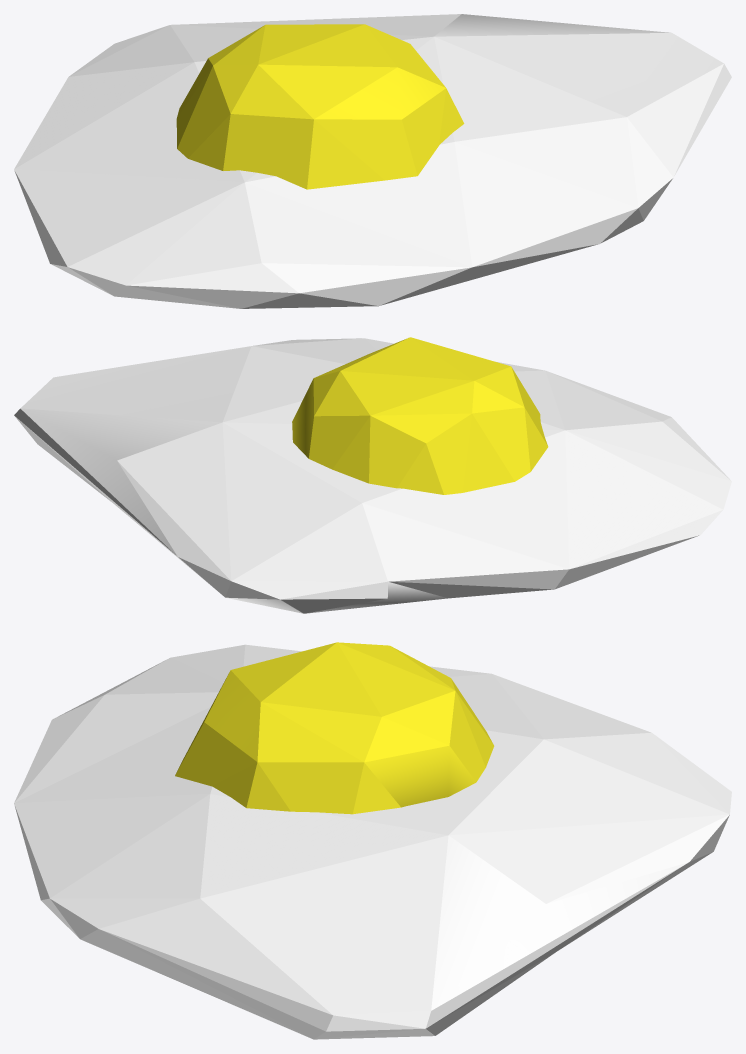
The model's file is SM_Food_Egg_01.fbx.
3 renders of one model, top to bottom at view 1: azimuth 30°, elevation 25°; view 2: azimuth 150°, elevation 25°; view 3: azimuth 270°, elevation 25°, orthographic. The views are drawn at different scales.
Parts seen in each view (by area): view 1: SM_Food_Egg_01; view 2: SM_Food_Egg_01; view 3: SM_Food_Egg_01.
Boxes of the visible parts, x1,y1,x2,y2 form: SM_Food_Egg_01: (14,14,731,308); SM_Food_Egg_01: (14,337,731,613); SM_Food_Egg_01: (14,642,731,1039).
Size of the model in its own units: 0.14 by 0.0274 by 0.1123.
